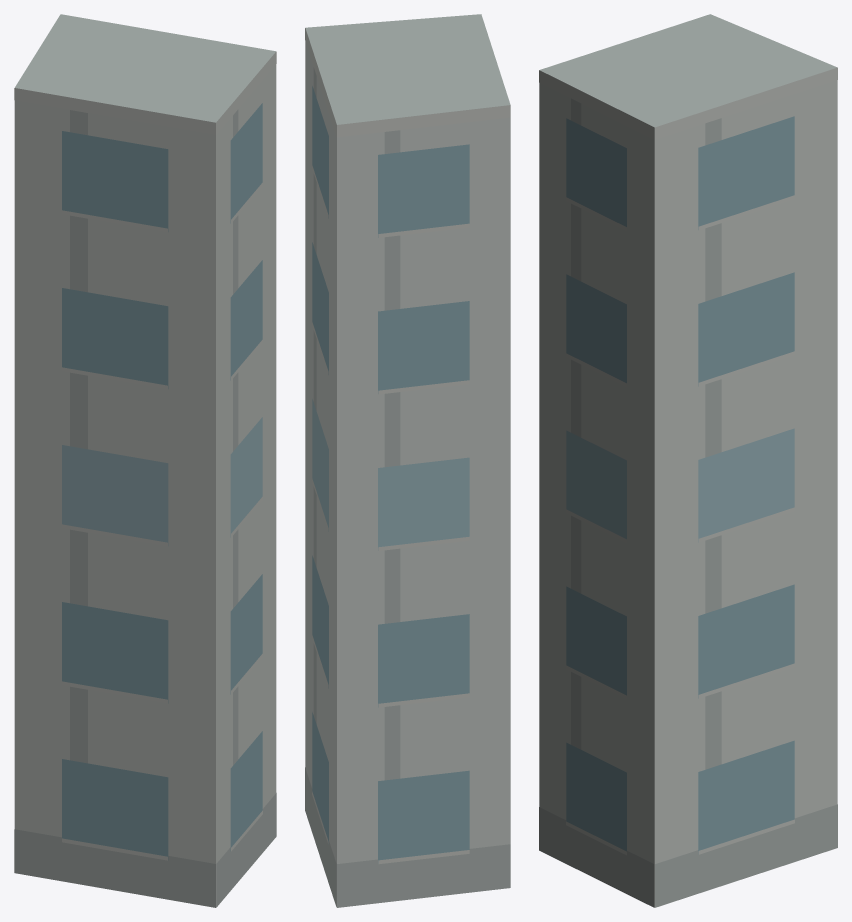
The model's file is survey-upis-32651185.glb.
3 views of the same model, side by side, from view 1: azimuth 30°, elevation 25°; view 2: azimuth 150°, elevation 25°; view 3: azimuth 270°, elevation 25° (orthographic).
Visible parts, largest first — view 1: survey-upis-32651185.tmp; view 2: survey-upis-32651185.tmp; view 3: survey-upis-32651185.tmp.
Part boxes in pixels (x1=…): survey-upis-32651185.tmp: x1=14, y1=14, x2=276, y2=907; survey-upis-32651185.tmp: x1=305, y1=14, x2=510, y2=907; survey-upis-32651185.tmp: x1=539, y1=14, x2=837, y2=907.
Size of the model in its own units: 4.76 by 15.25 by 5.29.
